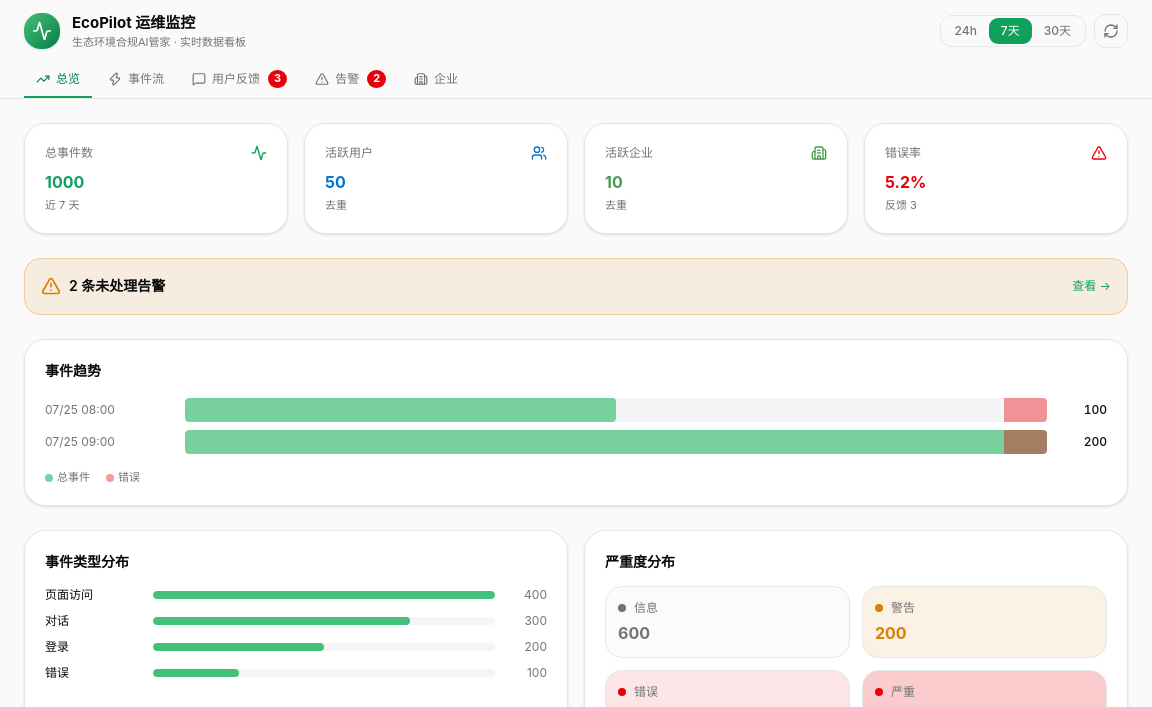
it: MonitorPage › '查看' link switches to alerts tab
The image size is (1152, 707).
Expected: the text "2 条未处理告警" is shown, [69,275,165,298]
Click the button "查看 →".
click(1092, 286)  # box [1072,278,1111,296]
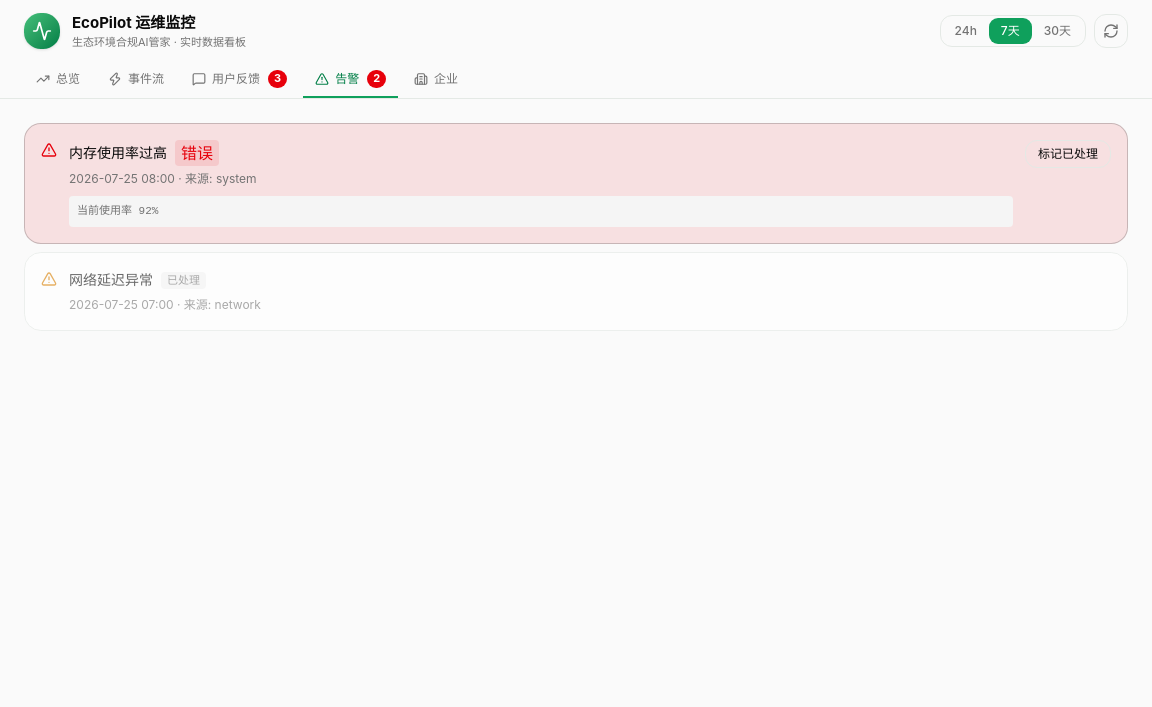
Expected: the text "内存使用率过高" is shown, [69,142,167,164]
